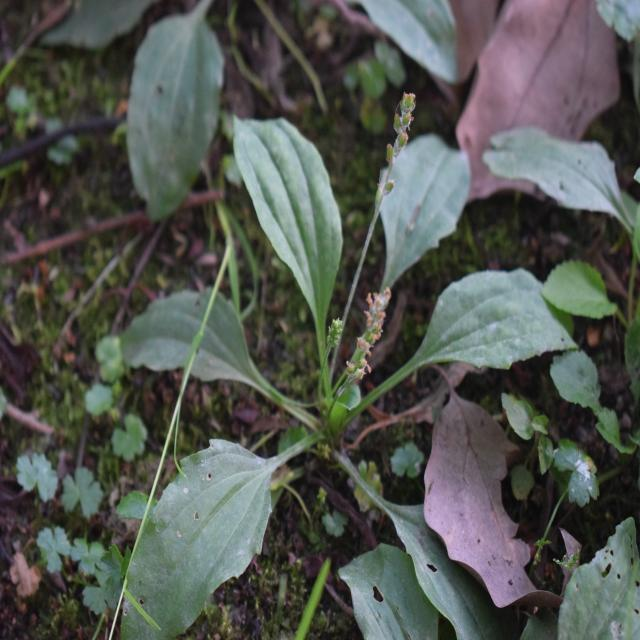plantain: (136, 100, 515, 550)
